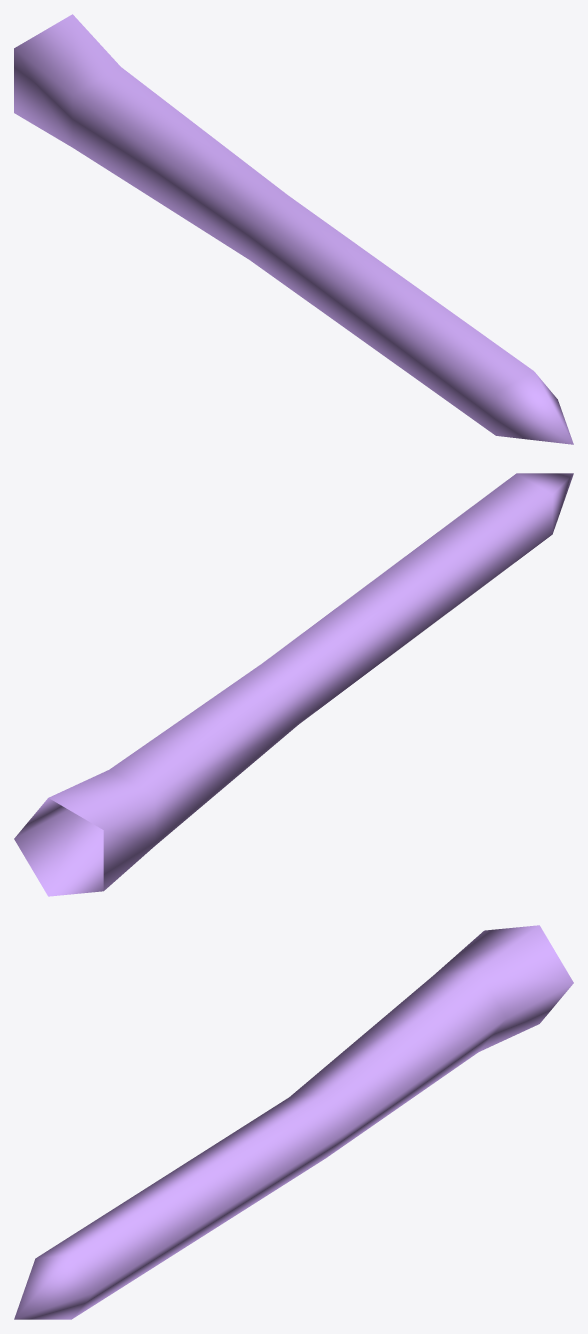
The picture shows the model from 3 angles, top to bottom: view 1: azimuth 30°, elevation 25°; view 2: azimuth 150°, elevation 25°; view 3: azimuth 330°, elevation 25°; orthographic projection. The views are drawn at different scales.
Visible parts, largest first — view 1: Object03; view 2: Object03; view 3: Object03.
Part boxes in pixels (box(x1,y1,x2,y2)): Object03: box(14, 14, 573, 444); Object03: box(14, 473, 573, 896); Object03: box(14, 925, 573, 1319).
Size of the model in its own units: 5151 by 5416 by 49663.
